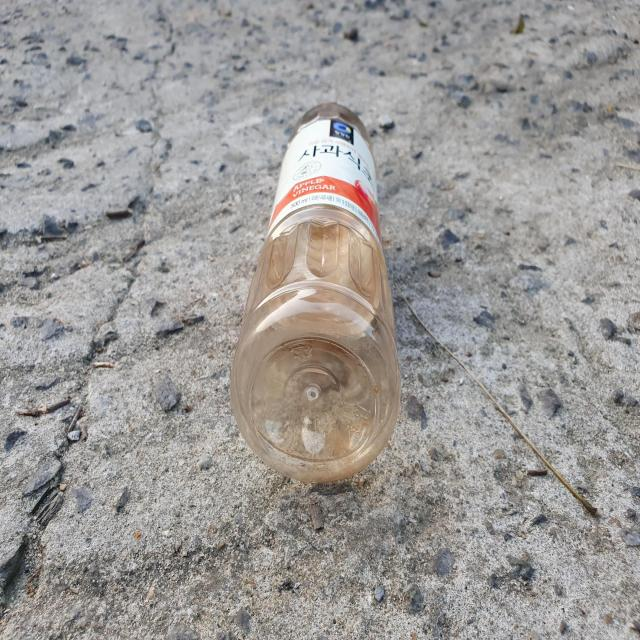plastic: (231, 101, 401, 483)
